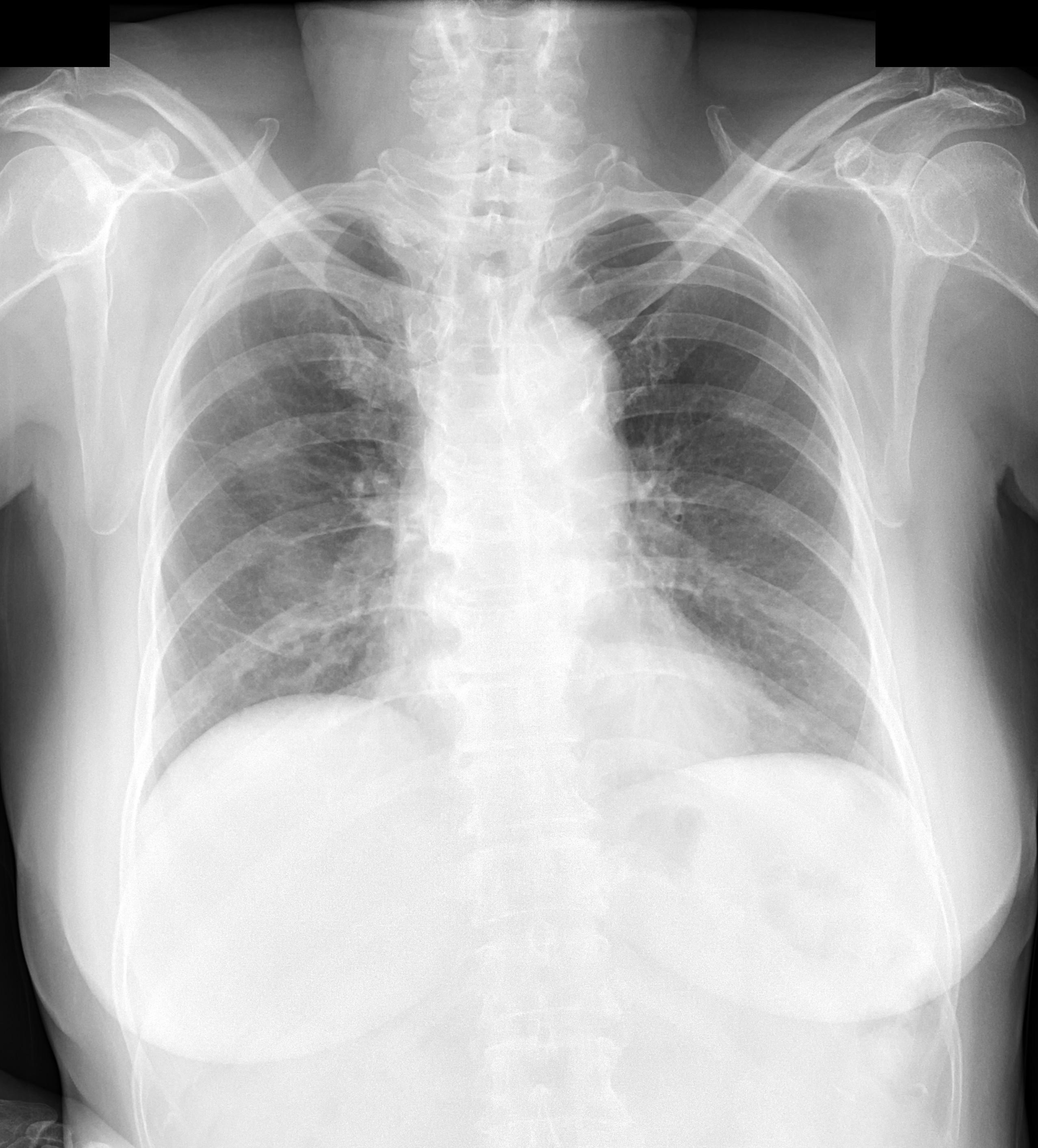Aortic enlargement: (504, 315, 622, 425)
Pleural thickening: (688, 212, 752, 254), (298, 196, 375, 223)
Pulmonary fibrosis: (214, 622, 289, 660), (179, 430, 223, 450)
